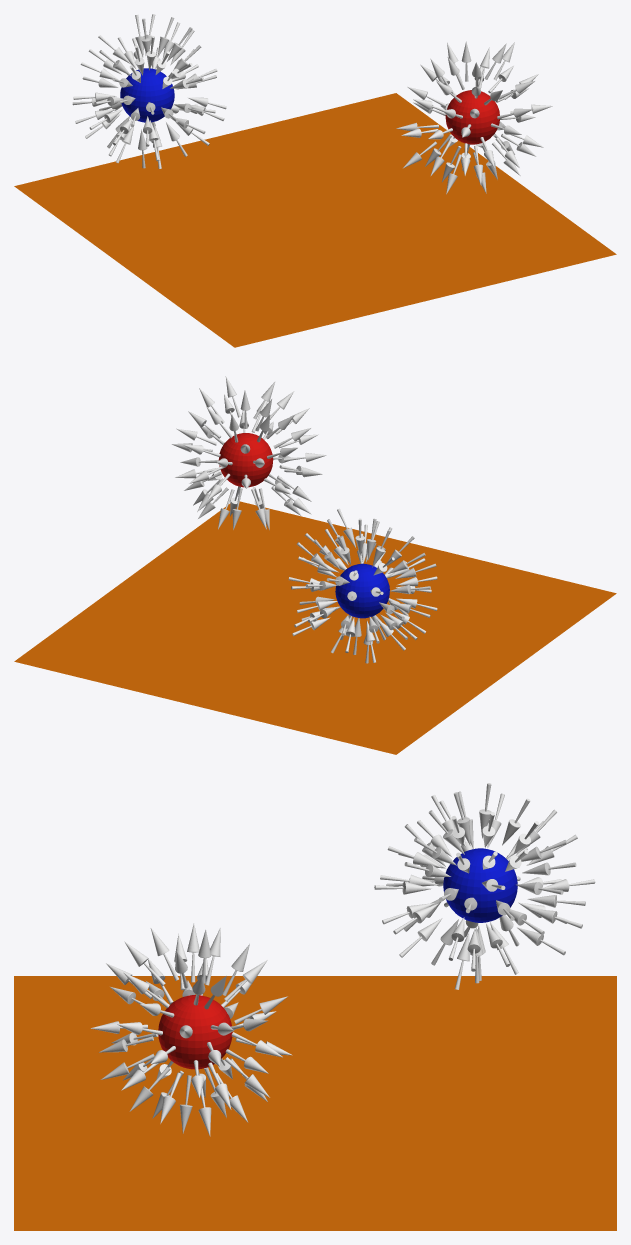
The model's file is Cargas-1.gltf.
3 renders of one model, top to bottom at view 1: azimuth 30°, elevation 25°; view 2: azimuth 150°, elevation 25°; view 3: azimuth 270°, elevation 25°, orthographic. The views are drawn at different scales.
Parts seen in each view (by area): view 1: Plane, Sphere.001, Sphere; view 2: Plane, Sphere, Sphere.001; view 3: Plane, Sphere.001, Sphere.
Part boxes in pixels (left/top/right/bottom): Plane: left=14, top=93, right=616, bottom=347; Sphere.001: left=445, top=90, right=499, bottom=144; Sphere: left=120, top=68, right=174, bottom=122; Plane: left=14, top=501, right=616, bottom=754; Sphere: left=335, top=563, right=389, bottom=618; Sphere.001: left=218, top=433, right=273, bottom=487; Plane: left=14, top=976, right=616, bottom=1230; Sphere.001: left=158, top=995, right=232, bottom=1069; Sphere: left=443, top=848, right=517, bottom=922.
Bounding box in the file's own units: 16.15 × 7.33 × 16.15.
